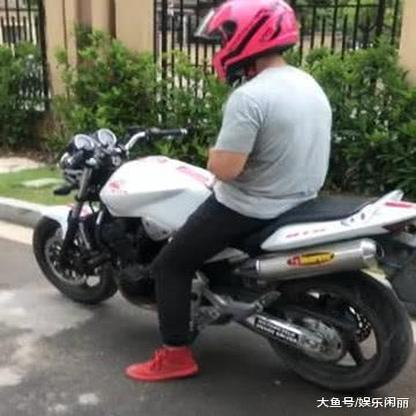target: (33, 5, 412, 393)
